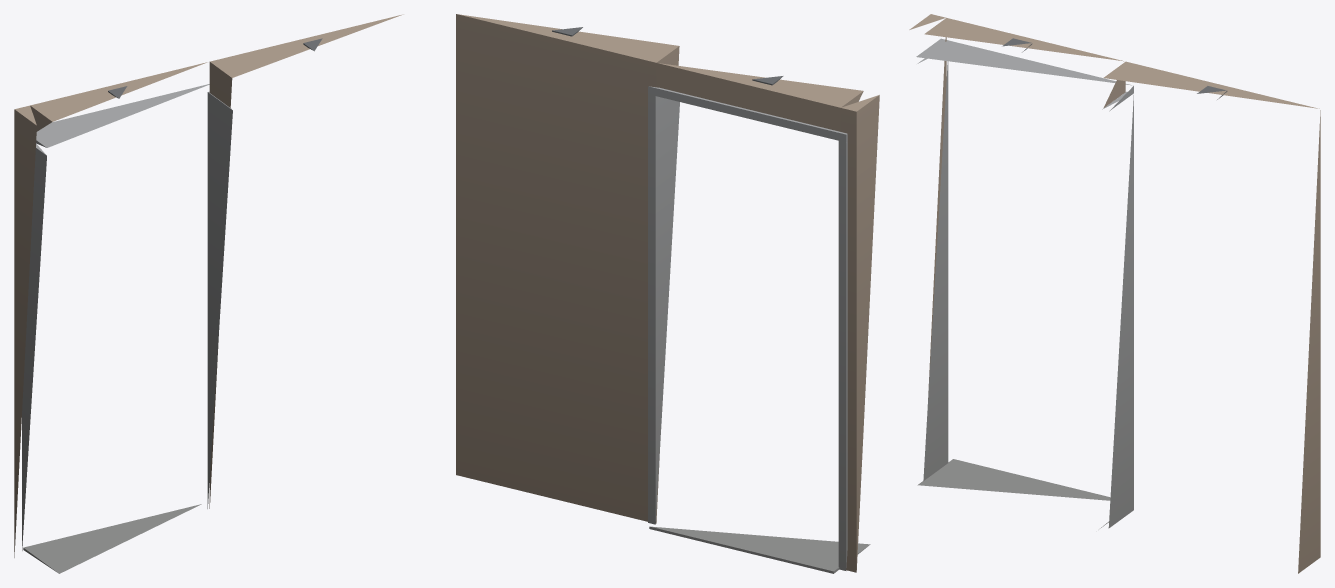
Rendered from doorWall_regocrete_meshin.glb.
The picture shows the model from 3 angles, left to right: view 1: azimuth 30°, elevation 25°; view 2: azimuth 150°, elevation 25°; view 3: azimuth 330°, elevation 25°; orthographic projection. The views are drawn at different scales.
Visible parts, largest first — view 1: doorWall_regocrete_meshin; view 2: doorWall_regocrete_meshin; view 3: doorWall_regocrete_meshin.
Boxes of the visible parts, x1,y1,x2,y2 form: doorWall_regocrete_meshin: (14, 14, 403, 573); doorWall_regocrete_meshin: (456, 14, 879, 573); doorWall_regocrete_meshin: (909, 14, 1320, 573).
Bounding box in the file's own units: 2 × 2.21 × 0.32.
